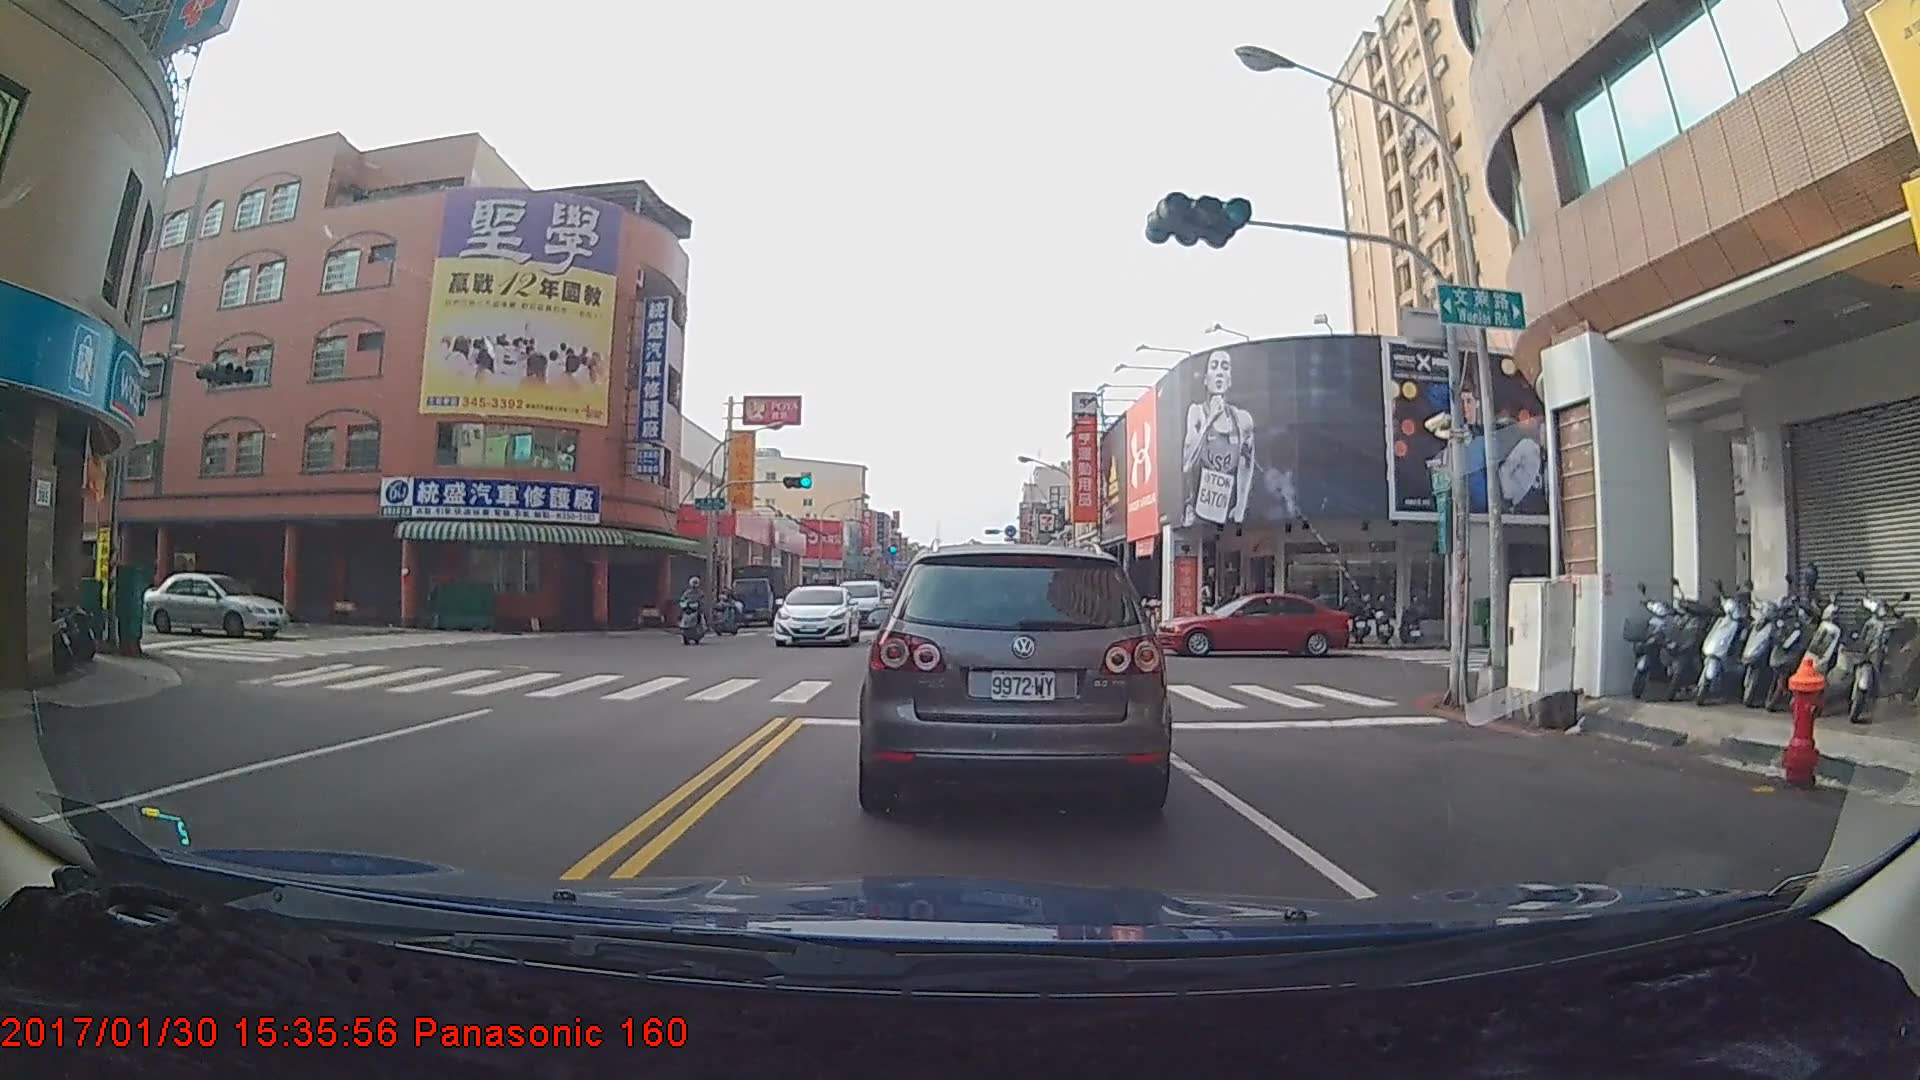rider: (675, 574, 713, 645), (710, 581, 751, 638)
vehicle: (864, 538, 1164, 815), (1155, 593, 1352, 658), (139, 569, 290, 638), (771, 583, 862, 648), (728, 563, 787, 627), (835, 577, 884, 628)
